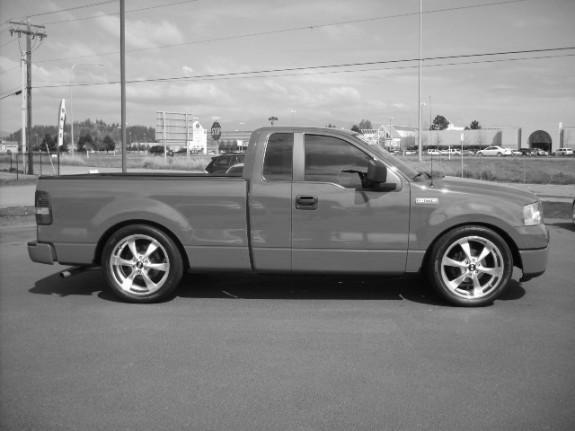car: (25, 124, 552, 308)
